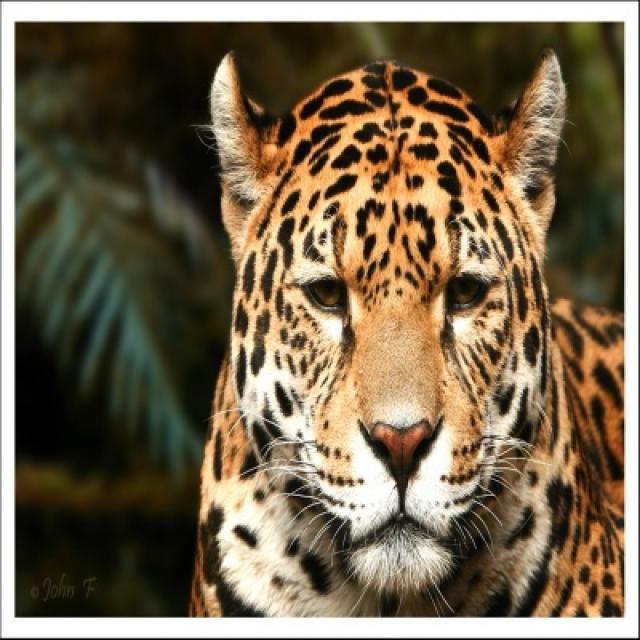Jaguar: (186, 48, 624, 621)
